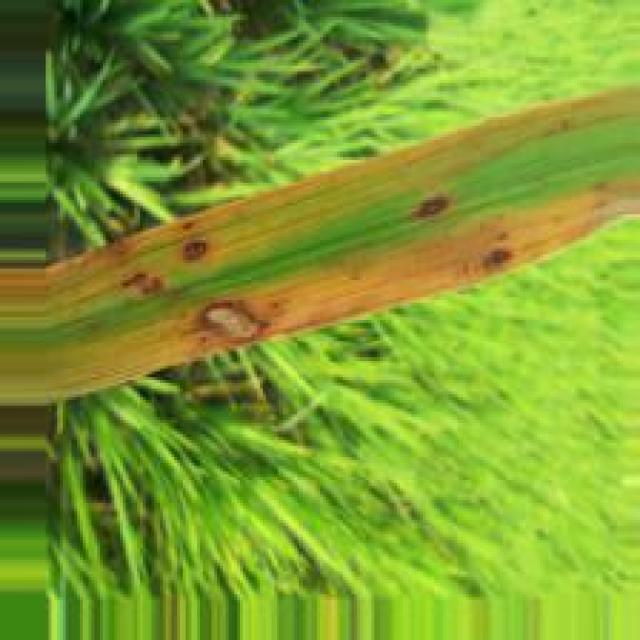Leaf_Blast: (183, 294, 275, 347), (116, 265, 166, 301), (403, 193, 461, 224), (474, 242, 523, 274), (184, 232, 212, 265)
